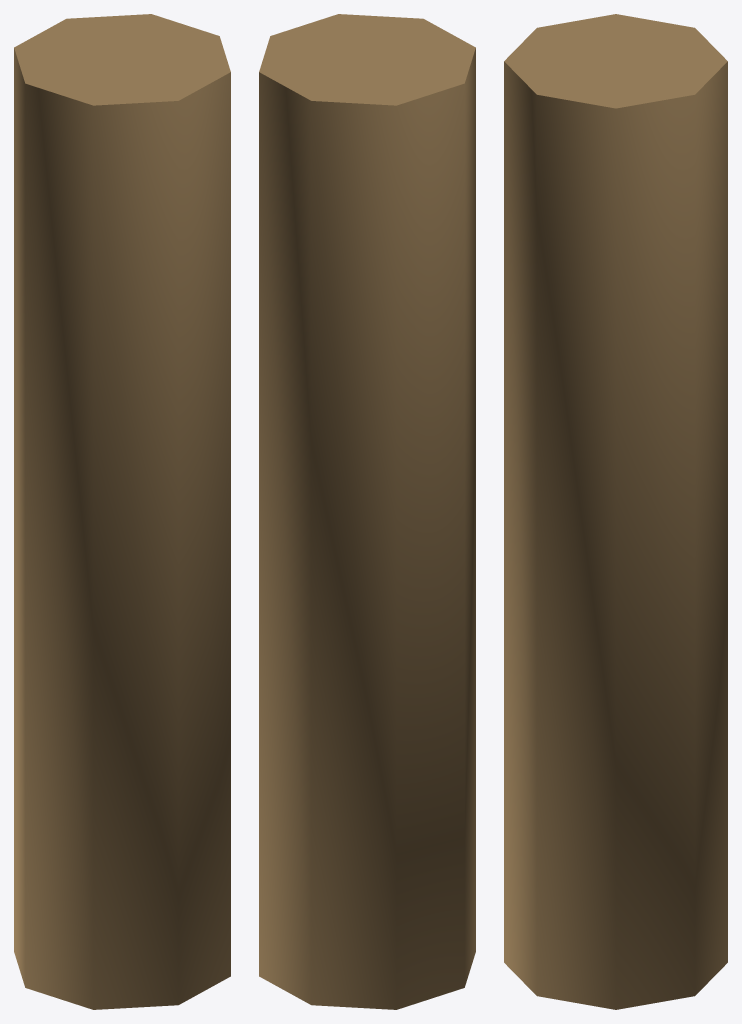
Rendered from fence_post_COL.fbx.
3 renders of one model, left to right at view 1: azimuth 30°, elevation 25°; view 2: azimuth 150°, elevation 25°; view 3: azimuth 270°, elevation 25°, orthographic.
Visible parts, largest first — view 1: Cylinder.002; view 2: Cylinder.002; view 3: Cylinder.002.
Boxes of the visible parts, x1,y1,x2,y2 form: Cylinder.002: (14, 14, 230, 1009); Cylinder.002: (259, 14, 475, 1009); Cylinder.002: (504, 14, 727, 1009).
Bounding box in the file's own units: 0.09 × 0.09 × 0.4.
